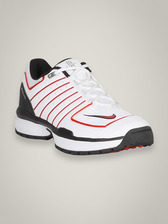shoes: (14, 54, 156, 154)
